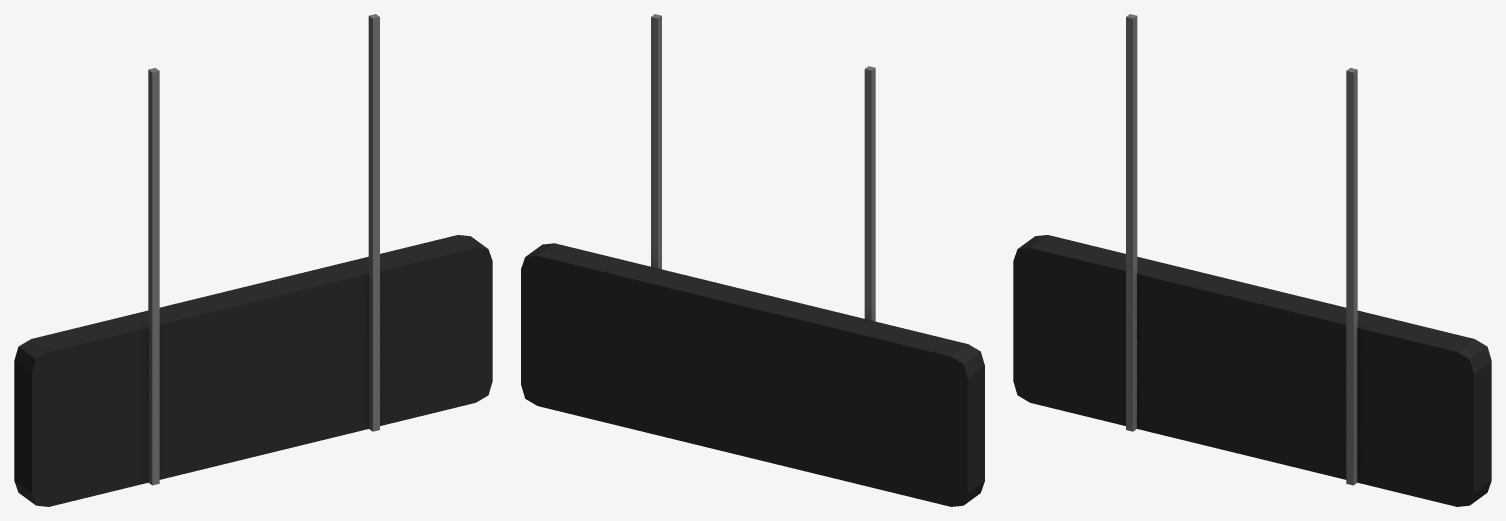
File: LedBoard.FBX
3 renders of one model, left to right at view 1: azimuth 30°, elevation 25°; view 2: azimuth 150°, elevation 25°; view 3: azimuth 330°, elevation 25°, orthographic. The views are drawn at different scales.
Parts seen in each view (by area): view 1: LedBoard; view 2: LedBoard; view 3: LedBoard.
Part boxes in pixels (<box>): LedBoard: <box>14,14,492,506</box>; LedBoard: <box>521,14,984,506</box>; LedBoard: <box>1013,14,1491,506</box>.
Size of the model in its own units: 1.12 by 0.9572 by 0.0909.
1 material, 1 textured.
